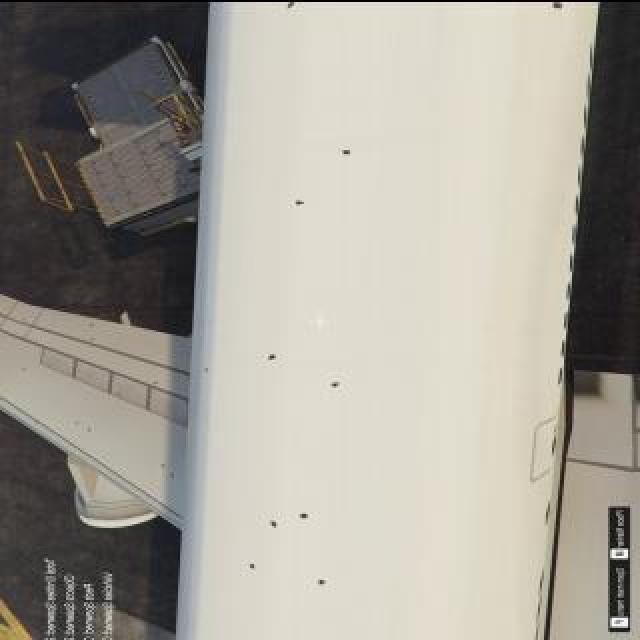crack: (264, 352, 288, 360), (340, 147, 358, 157), (329, 380, 347, 388), (292, 197, 308, 205), (297, 511, 313, 519), (316, 580, 332, 586), (251, 562, 263, 570), (200, 366, 212, 372), (270, 519, 278, 527), (169, 472, 177, 478), (87, 427, 95, 433), (114, 392, 126, 396), (160, 462, 168, 466), (73, 421, 81, 425), (89, 337, 97, 341), (89, 322, 97, 326), (22, 317, 30, 321), (22, 366, 30, 370), (154, 381, 160, 385)
